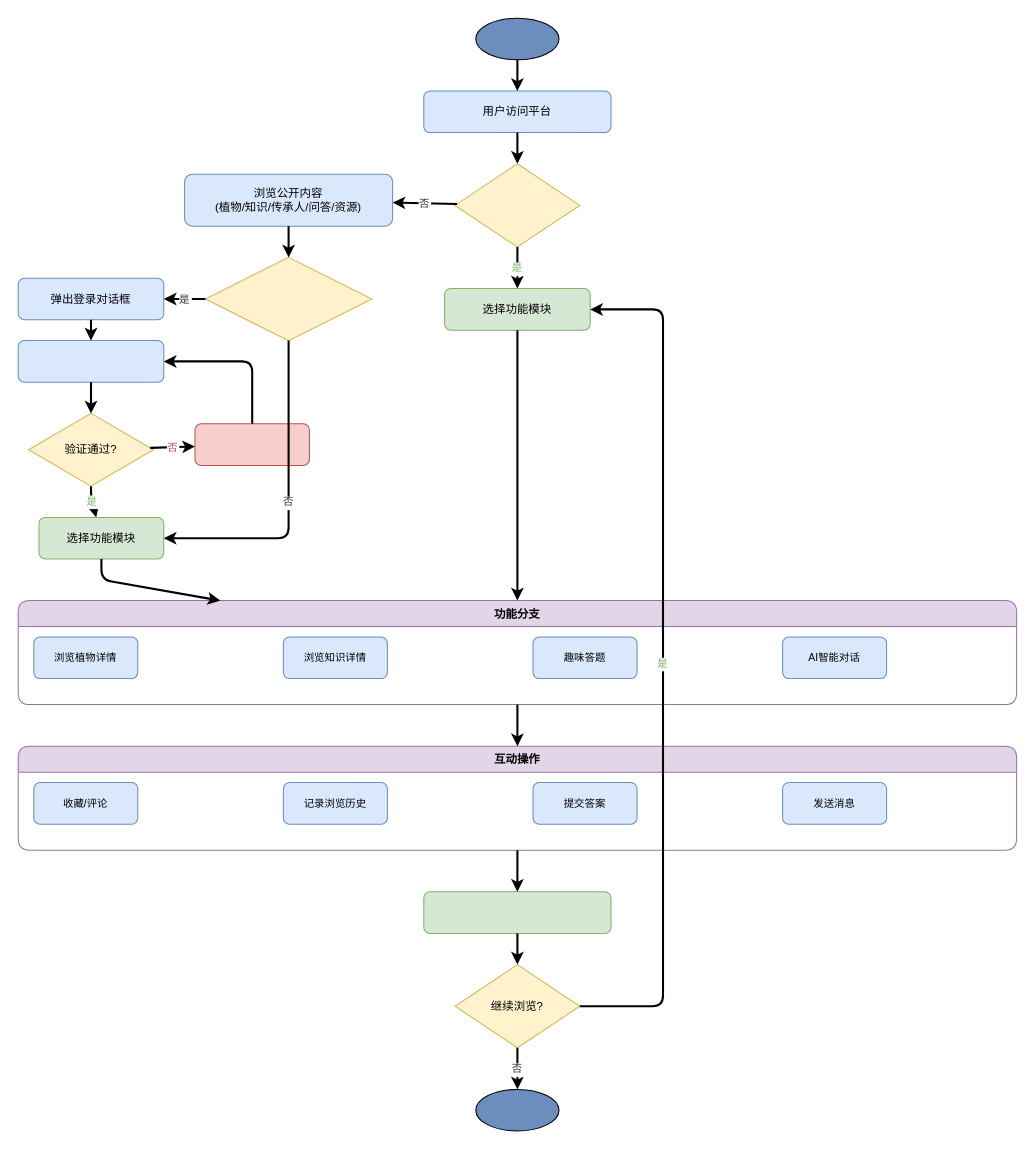
Some shapes in this 1035 by 1149 pixel diagram are drawn without their labels. The shapes that lost their labels are listed below. From the top down, each one's centre as x and y in pixels, then its label:
At (x=517, y=38): "开始".
At (x=517, y=205): "是否登录?".
At (x=288, y=298): "需要互动功能?".
At (x=90, y=361): "输入用户名/密码/验证码".
At (x=251, y=444): "显示错误提示".
At (x=517, y=912): "更新个人中心数据".
At (x=517, y=1109): "退出平台".
